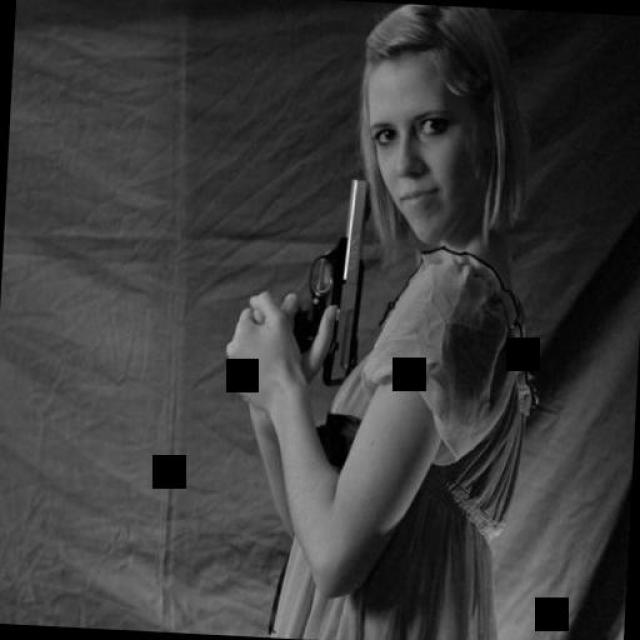gun: (275, 165, 374, 390)
